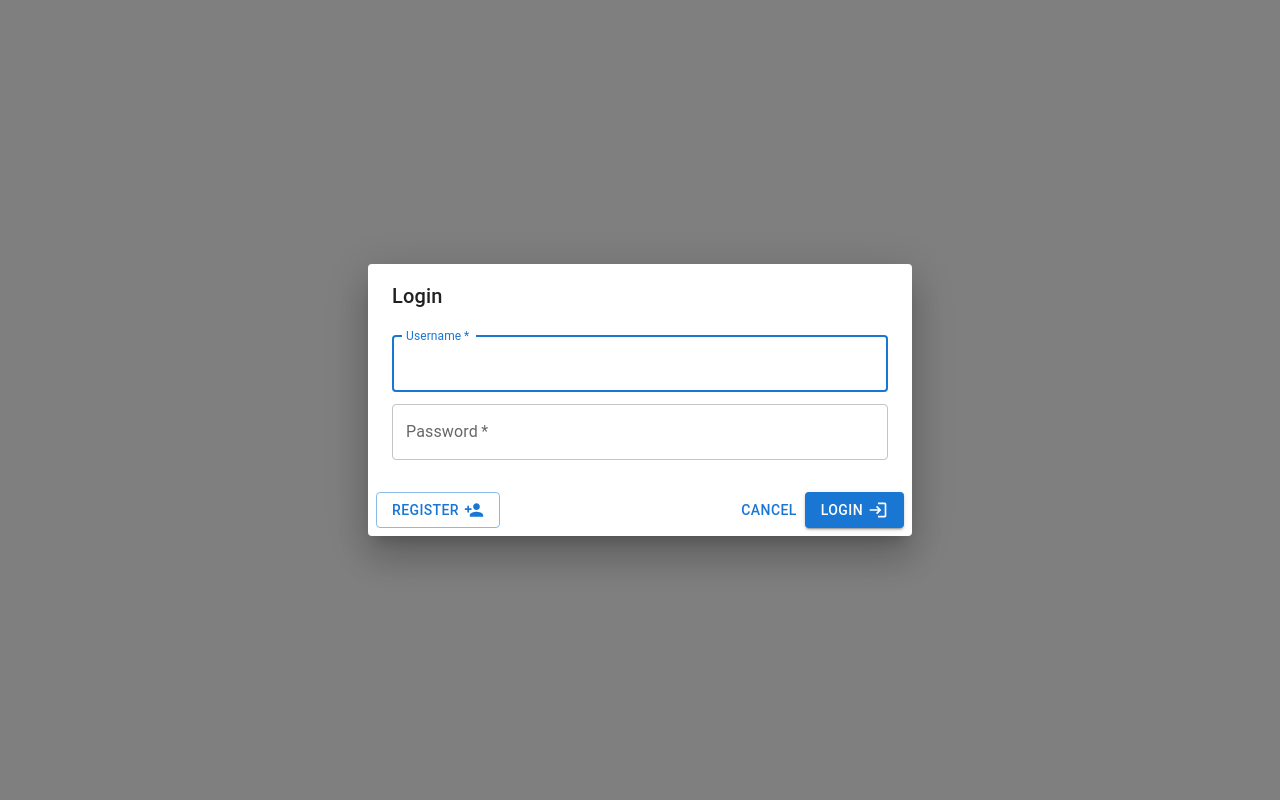
Scenario: Login Page tests › Check login failure after typing incorrect credentials
Check: the password field labelled "Password *" is shown, box [392,404,888,460]
Check: the button with test id "login_button" is shown, box [805,492,904,528]
In the field labelled "Username *": (640, 364) [392,336,888,392], type "Jay"
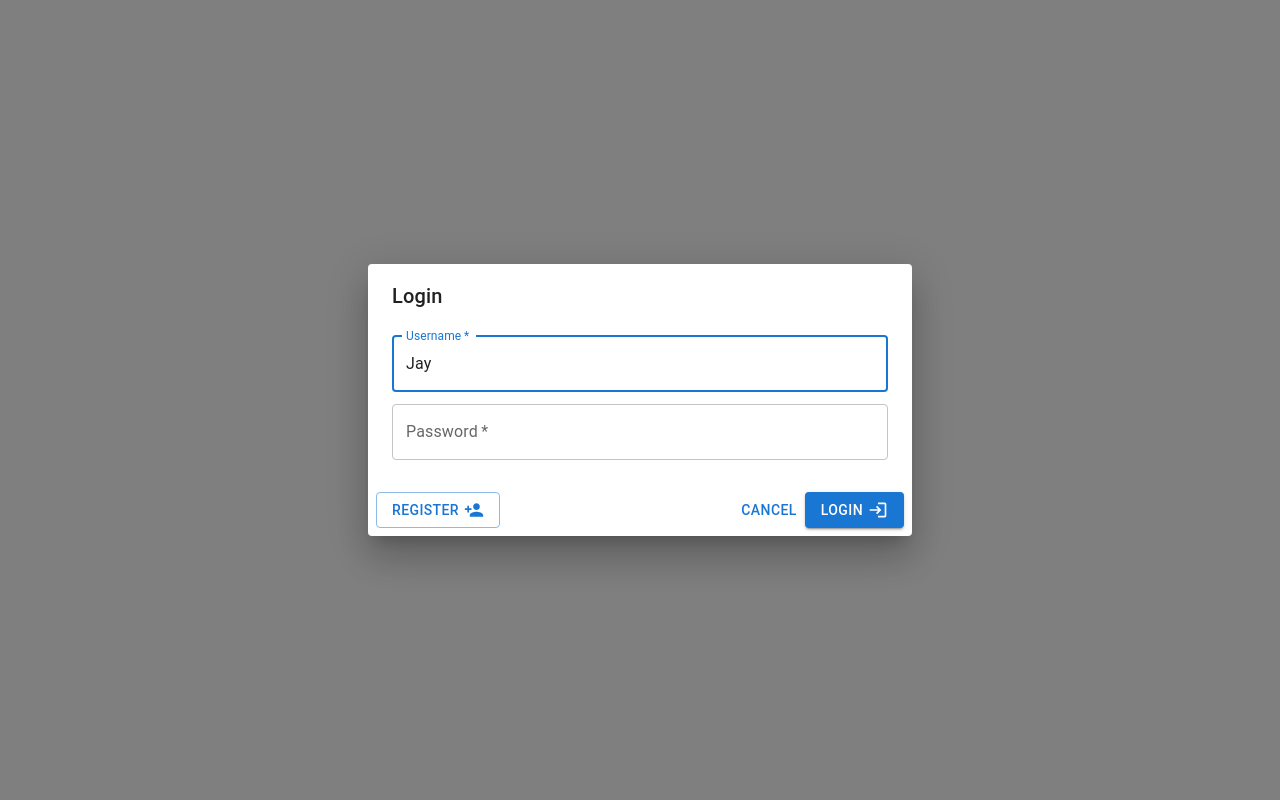
In the password field labelled "Password *": (640, 432) [392,404,888,460], type "Wrong Password"
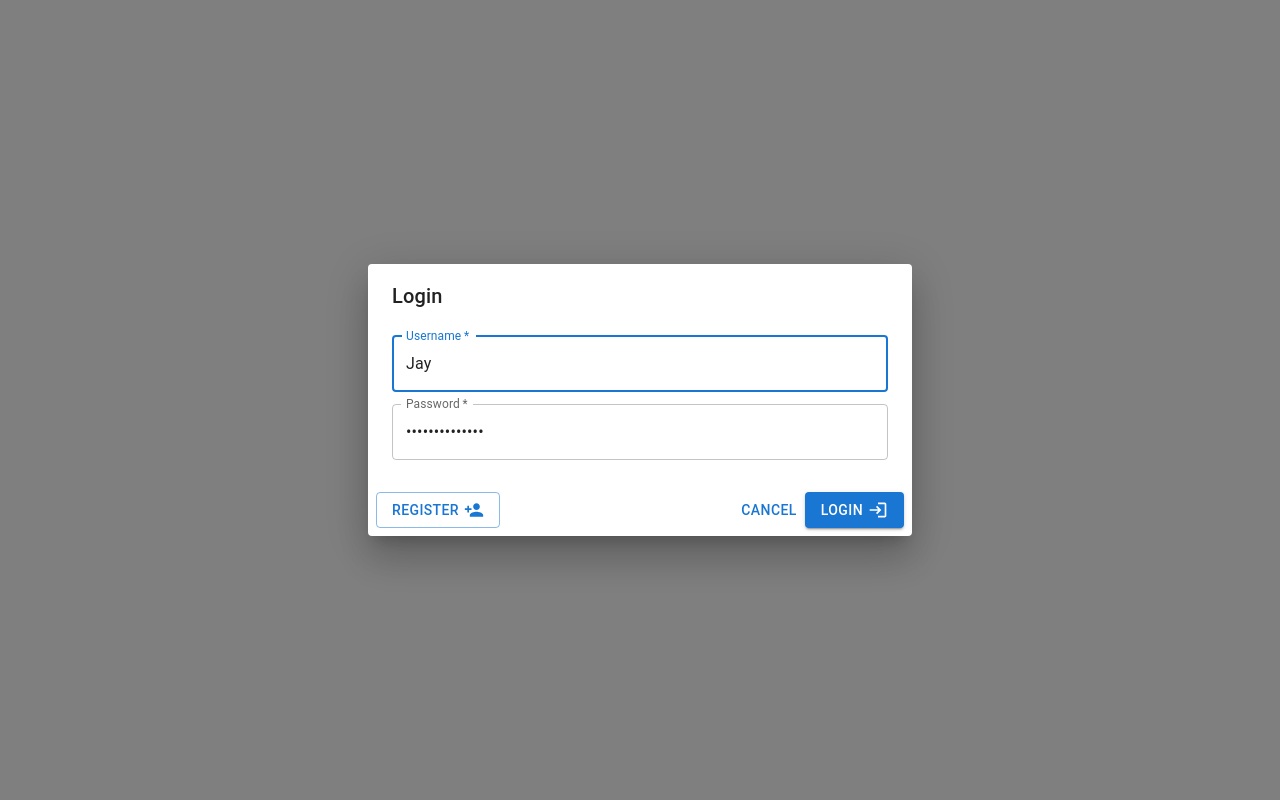
Click the button with test id "login_button": (854, 510) [805,492,904,528]
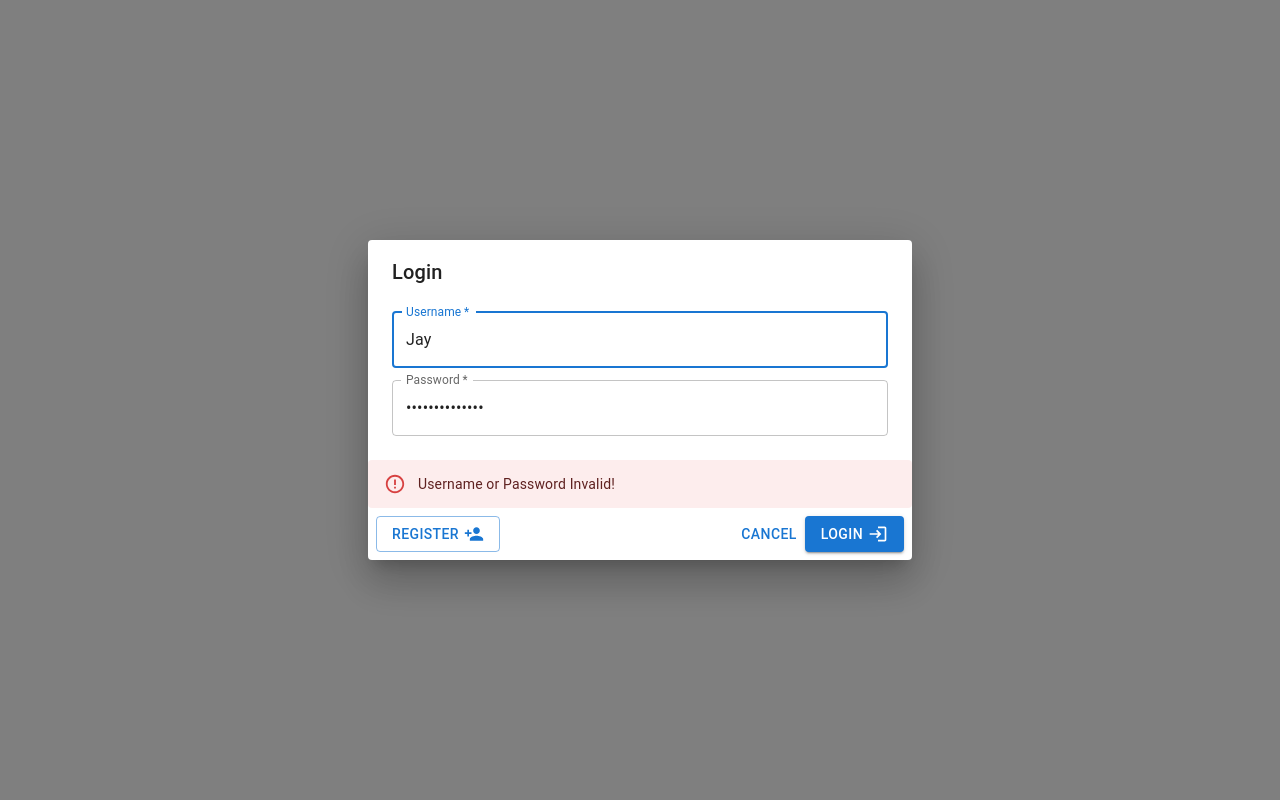
Check: the text "Username or Password Invalid!" is shown, box [418,476,615,492]
